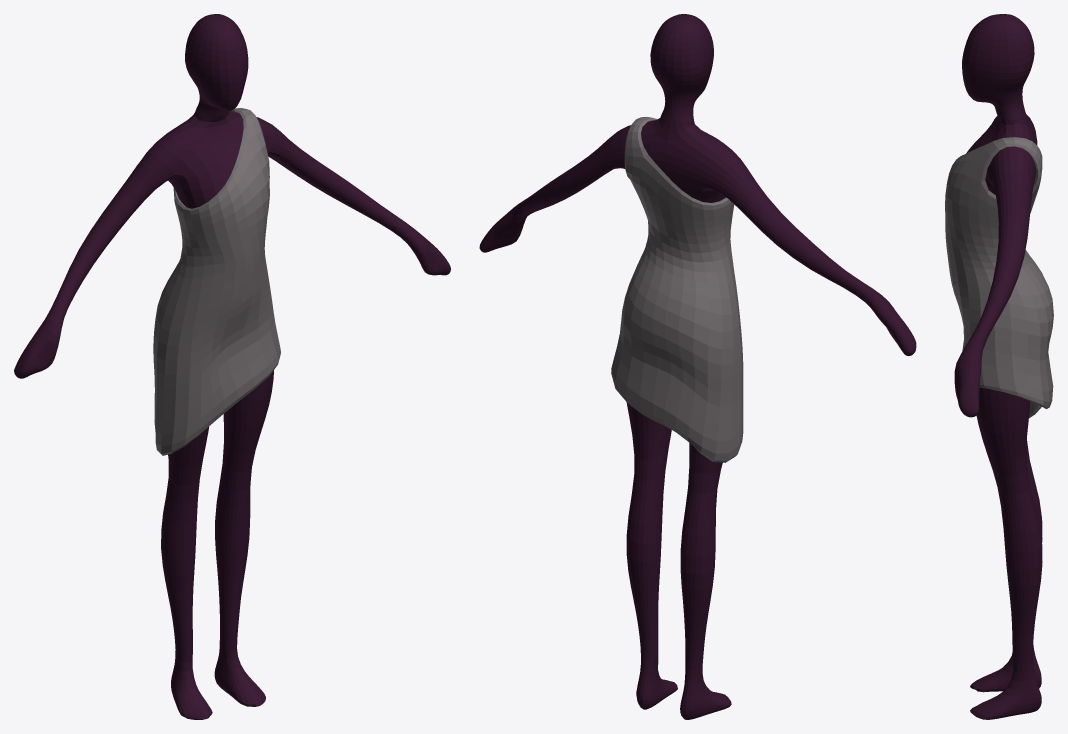
Rendered from princes1.obj.
3 views of the same model, side by side, from view 1: azimuth 30°, elevation 25°; view 2: azimuth 150°, elevation 25°; view 3: azimuth 270°, elevation 25° (orthographic).
Parts seen in each view (by area): view 1: body.001, princess.001; view 2: body.001, princess.001; view 3: body.001, princess.001.
Boxes of the visible parts, <box> form: body.001: <box>14,14,450,719</box>; princess.001: <box>153,108,280,455</box>; body.001: <box>479,14,916,719</box>; princess.001: <box>611,116,743,462</box>; body.001: <box>954,14,1042,719</box>; princess.001: <box>945,137,1053,418</box>.
Size of the model in its own units: 0.6553 by 0.9933 by 0.143.
